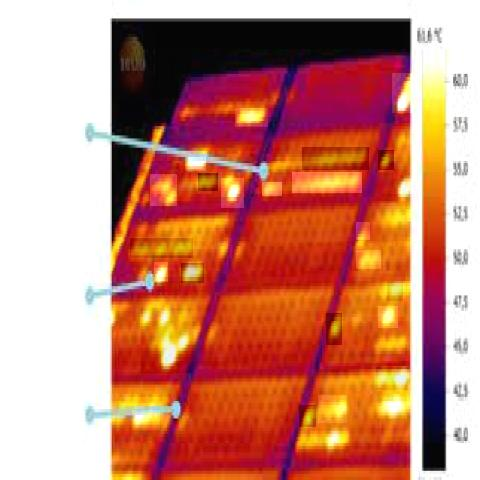fault: (141, 308, 194, 373), (302, 147, 369, 170), (292, 172, 362, 193), (130, 238, 193, 258), (293, 428, 350, 449), (376, 395, 404, 428), (150, 174, 177, 206), (392, 73, 413, 113), (318, 396, 347, 424), (376, 367, 408, 390), (221, 178, 244, 208), (235, 108, 268, 127), (132, 410, 160, 430), (326, 313, 343, 345), (356, 250, 381, 269), (181, 263, 204, 283), (378, 306, 398, 328), (270, 157, 292, 175), (299, 405, 316, 427), (198, 173, 218, 191), (398, 175, 411, 201), (387, 281, 403, 301), (378, 150, 394, 170), (217, 238, 232, 258), (154, 262, 168, 283), (185, 157, 206, 171), (262, 182, 282, 196), (356, 222, 370, 240)
